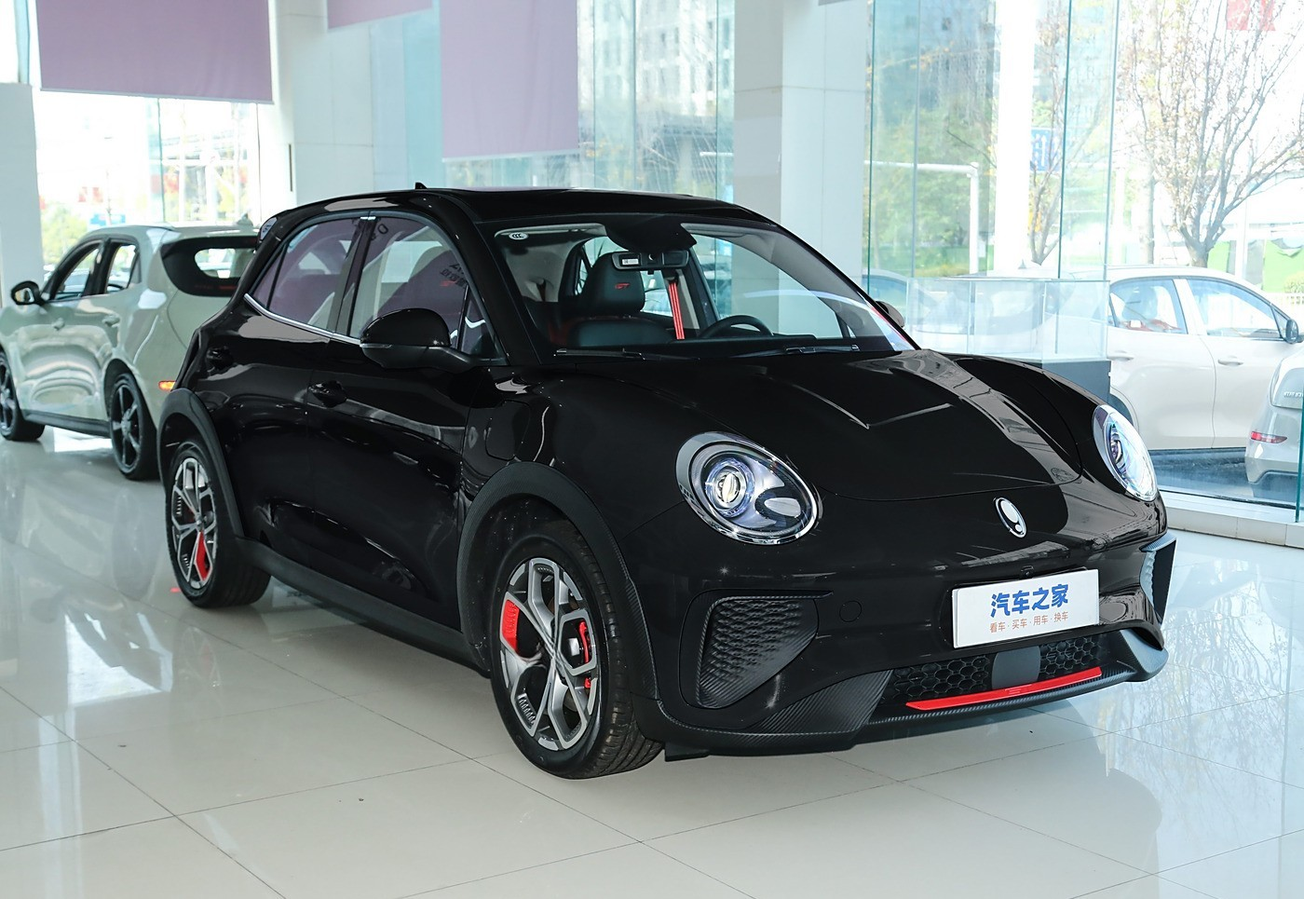ORA: (997, 497, 1026, 538)
